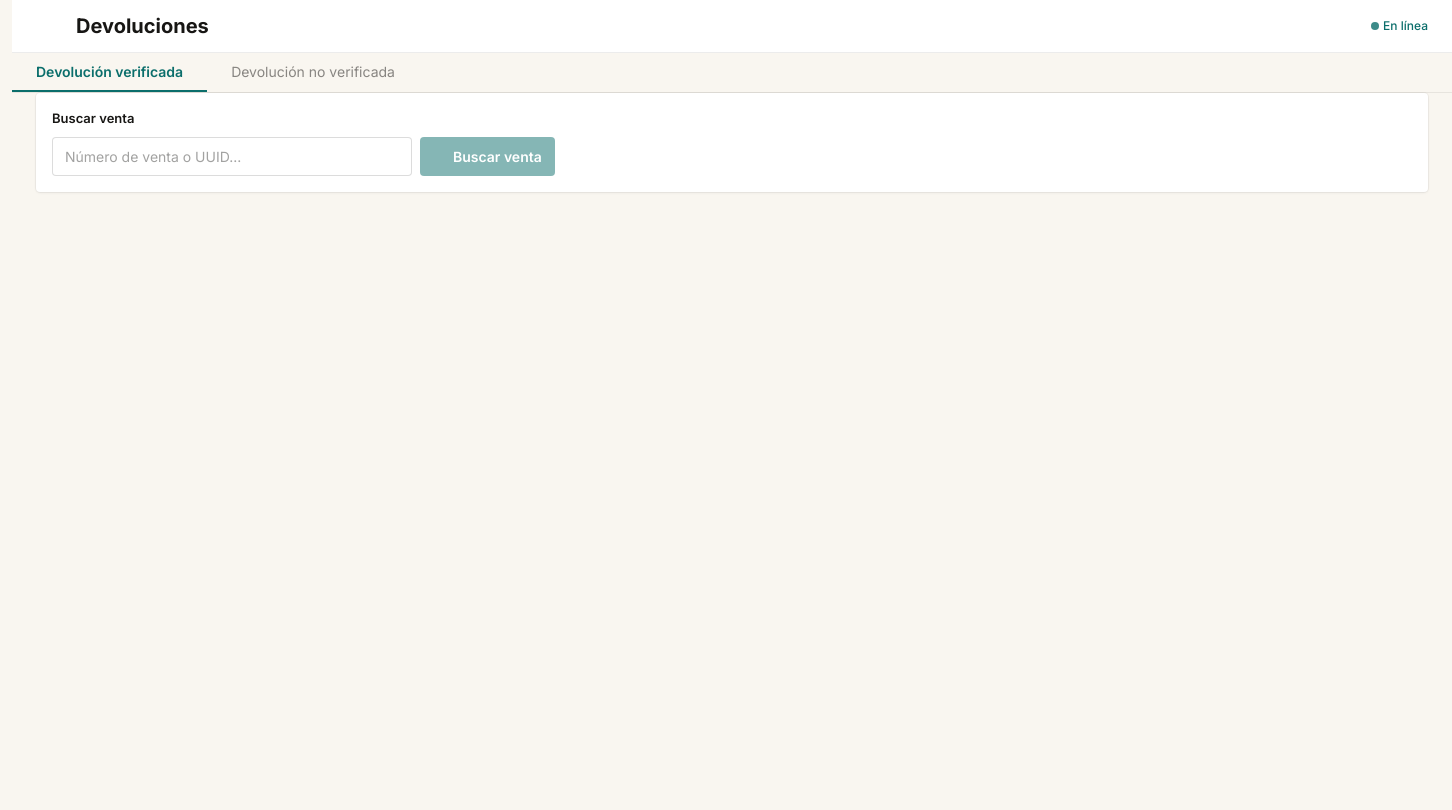
it: ReturnsPage › RETP-08: submit unverified return › shows a success toast after a successful unverified return
The width and height of the screenshot is (1452, 810).
Step 1. Click the tab "Devolución no verificada" → [313, 72], box [207, 53, 419, 92]
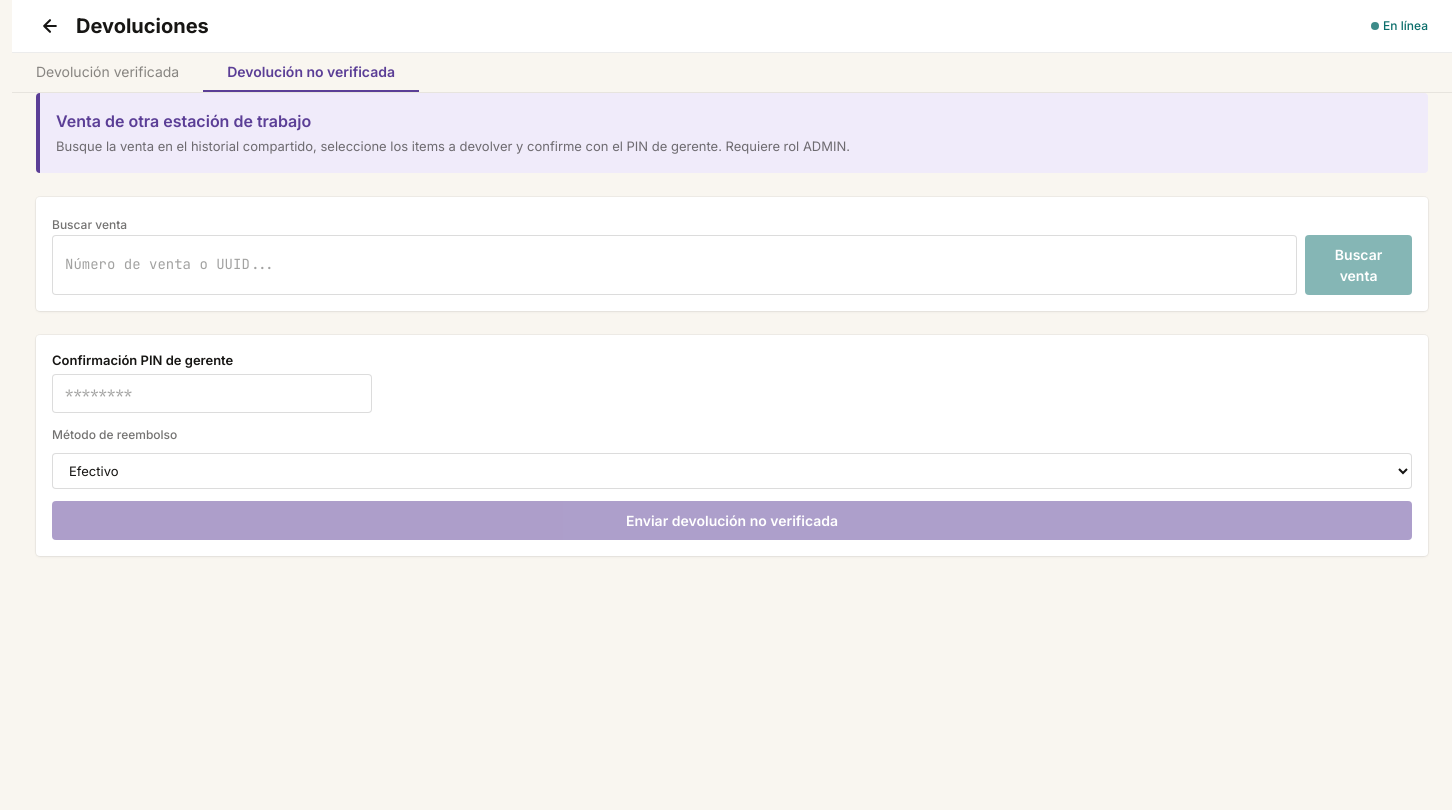
Step 2. Type "42" into the field with placeholder "Número de venta o UUID..." → [674, 264], box [52, 234, 1297, 294]
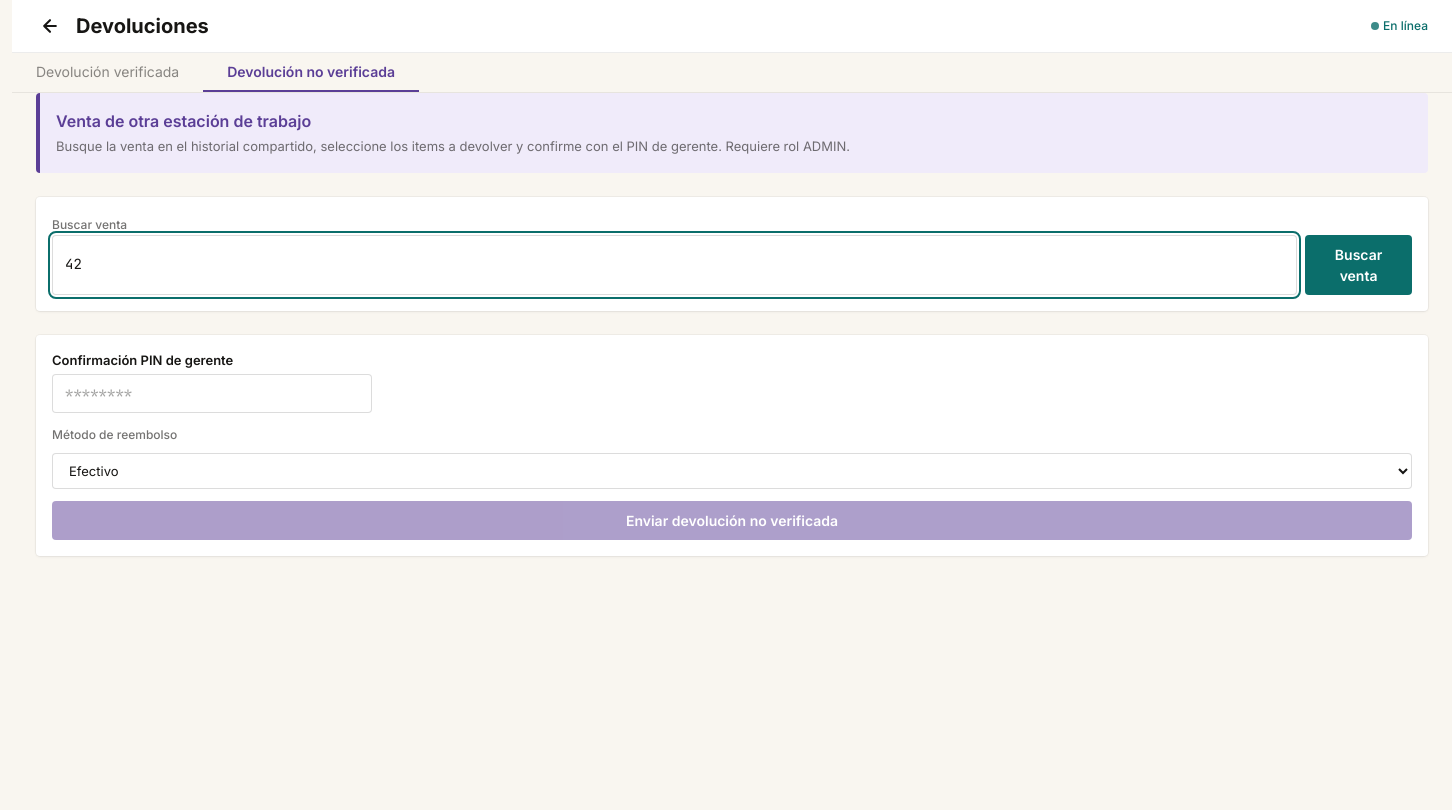
Step 3. Click the button "Buscar venta" → [1358, 264], box [1305, 234, 1412, 294]
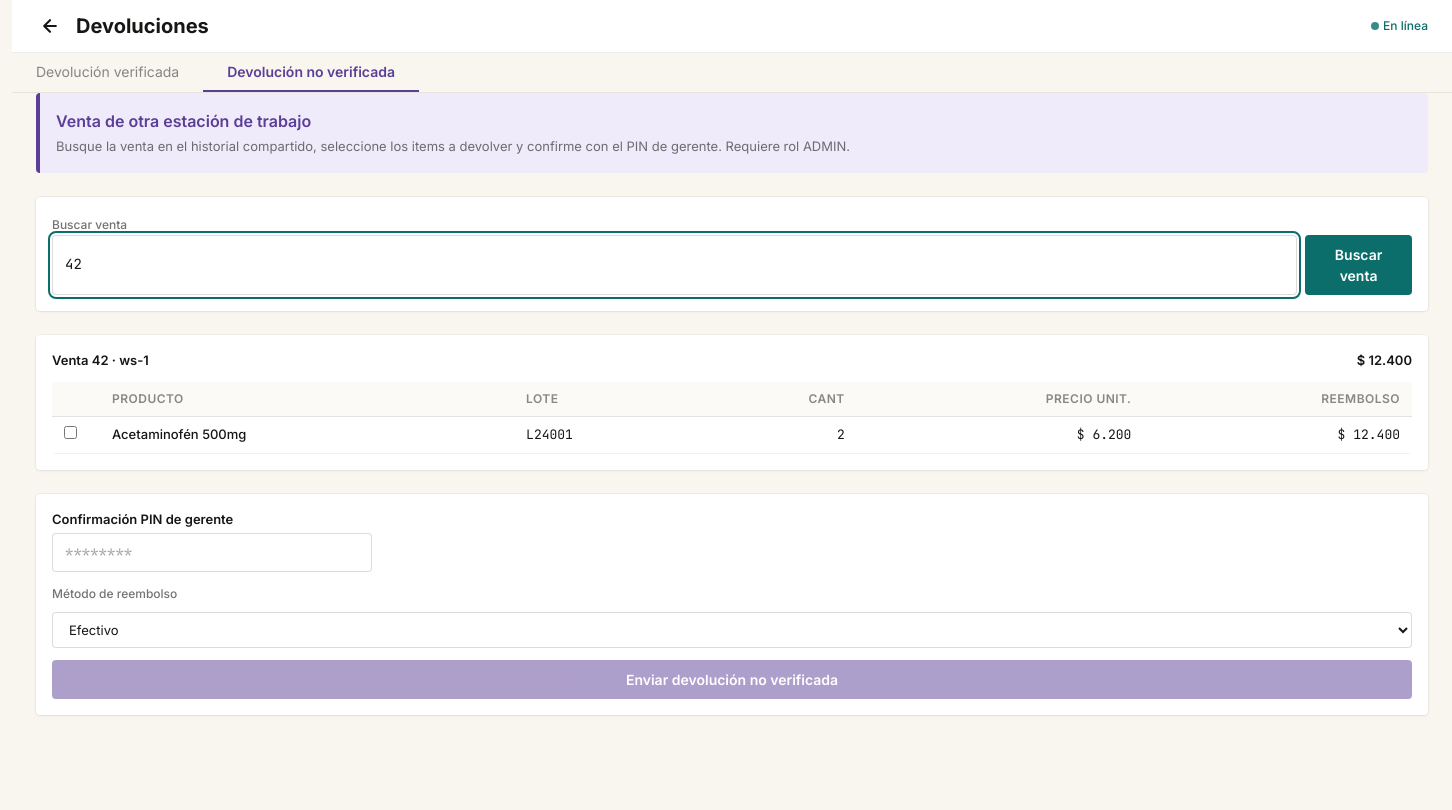
Expected: the checkbox named "Seleccionar item: Acetaminofén 500mg" is shown
Step 4. Click the checkbox named "Seleccionar item: Acetaminofén 500mg" → [70, 432], box [64, 426, 77, 439]
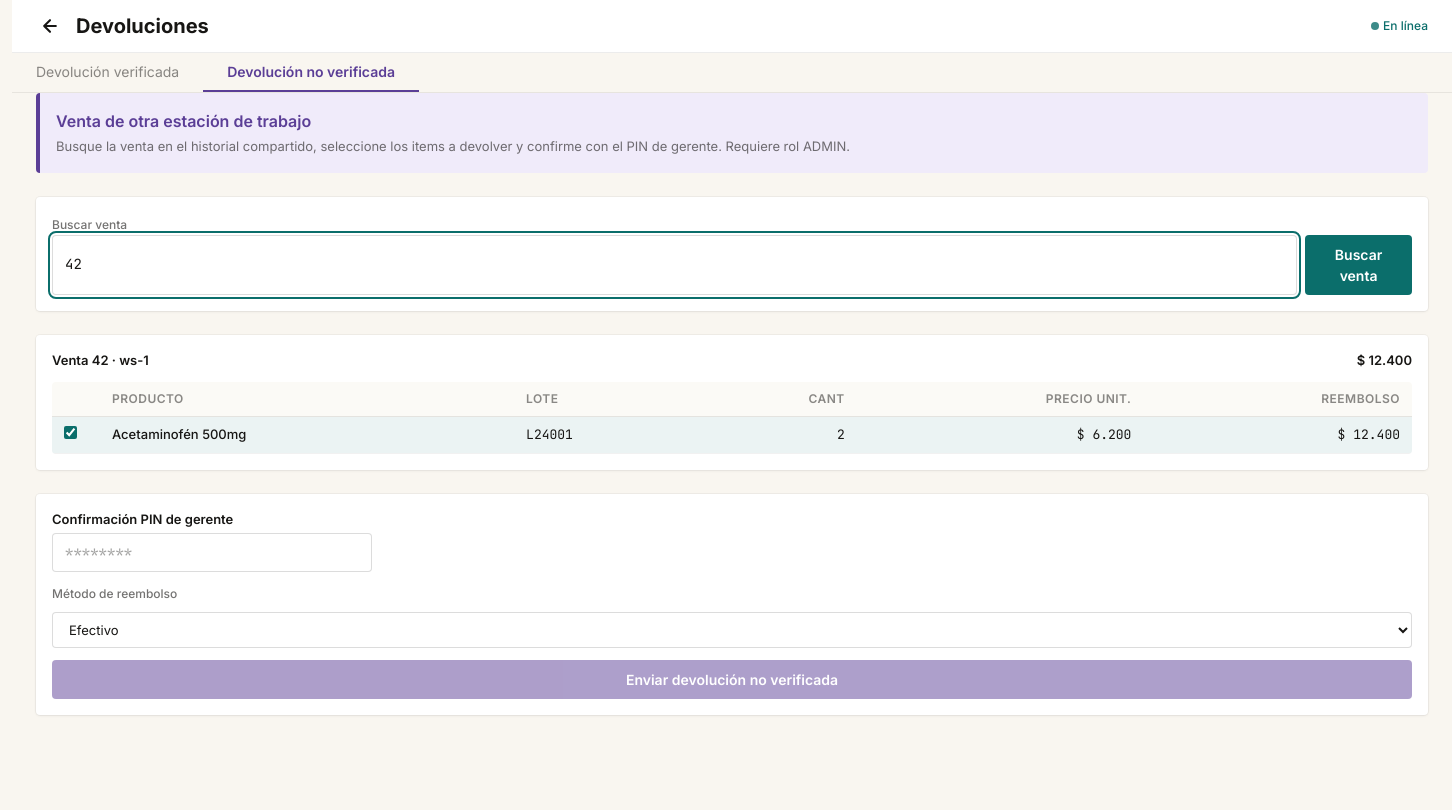
Step 5. Type "1234" into the password field labelled "Confirmación PIN de gerente" → [212, 552], box [52, 533, 372, 572]
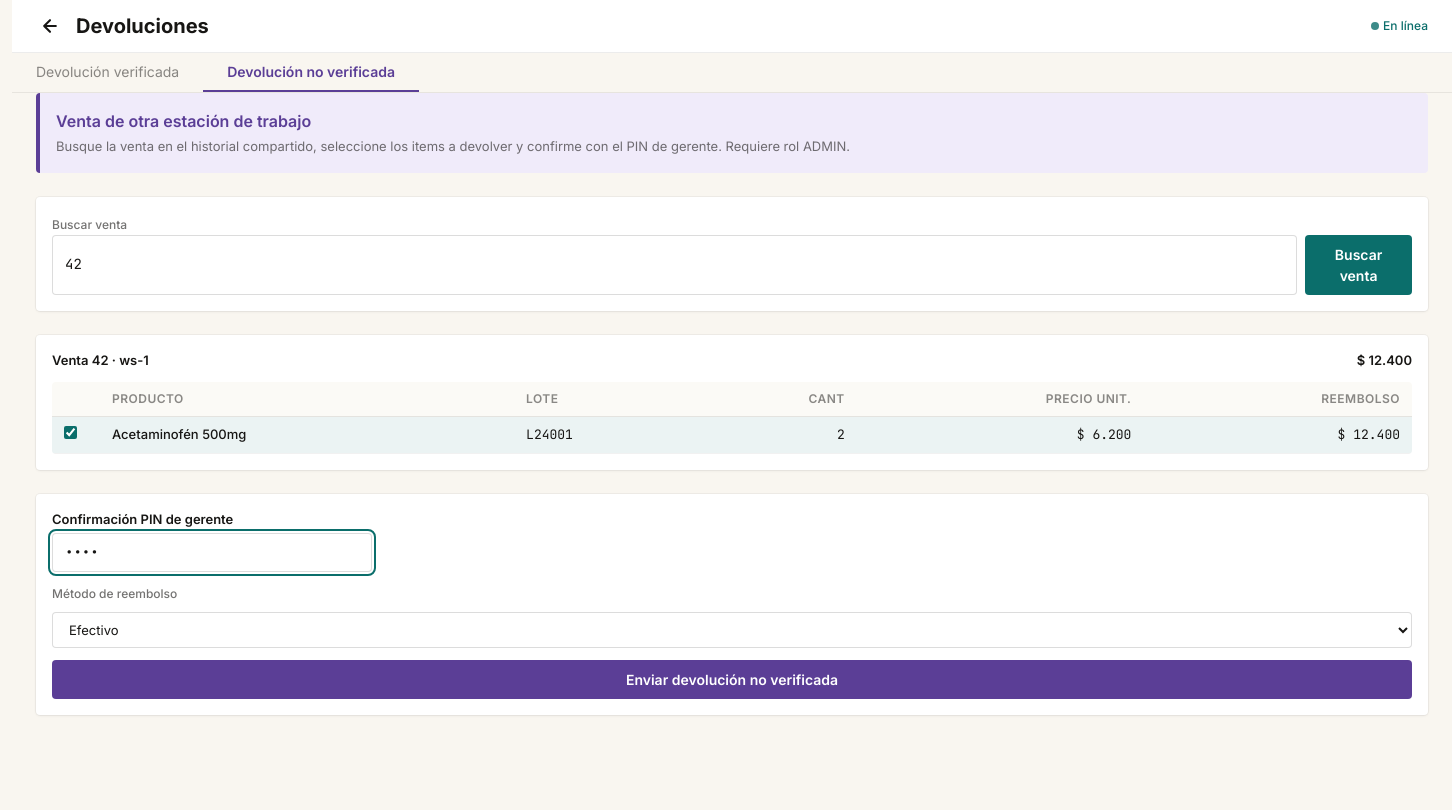
Step 6. Click the button "Enviar devolución no verificada" → [732, 680], box [52, 660, 1412, 699]
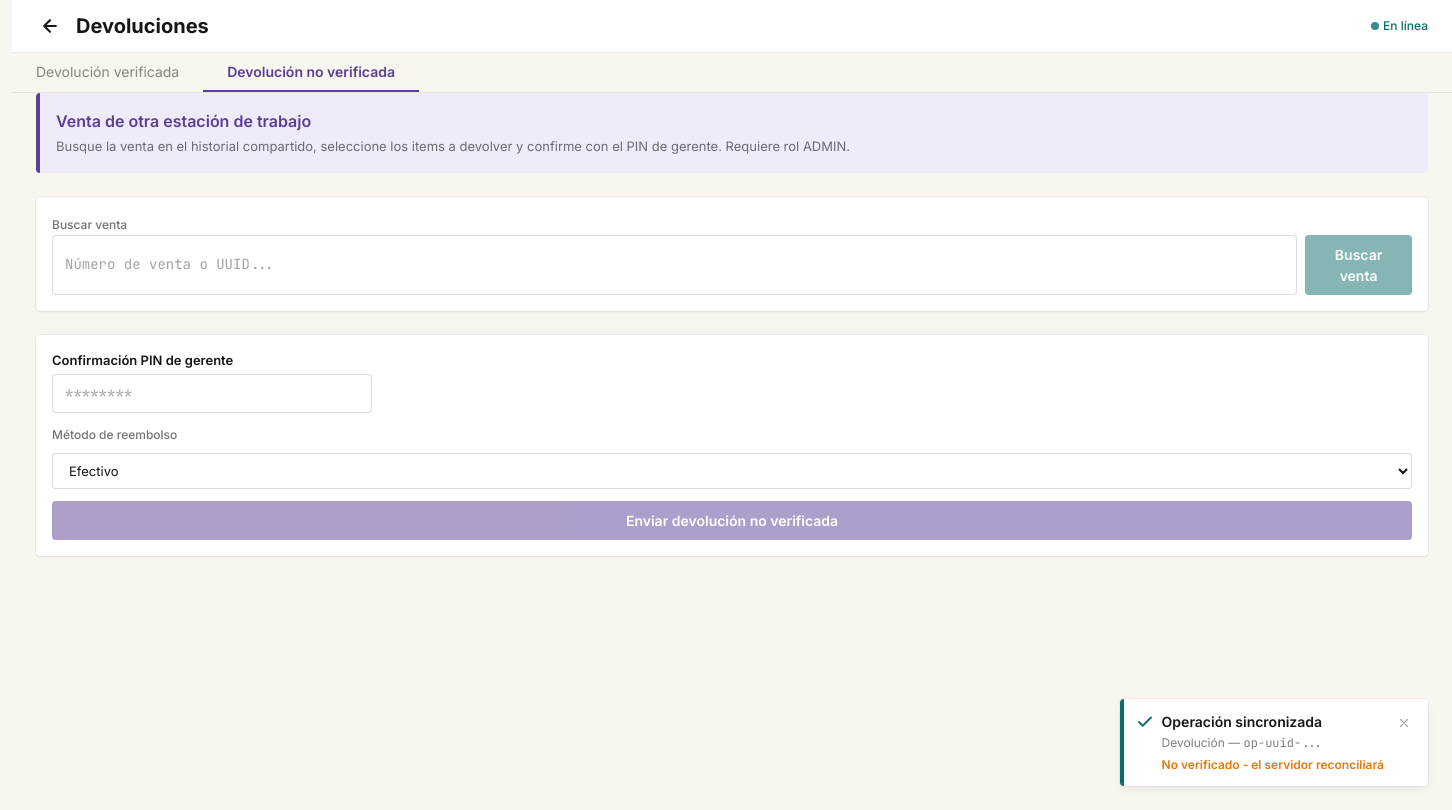
Expected: the message is shown, [1120, 699, 1428, 786]
